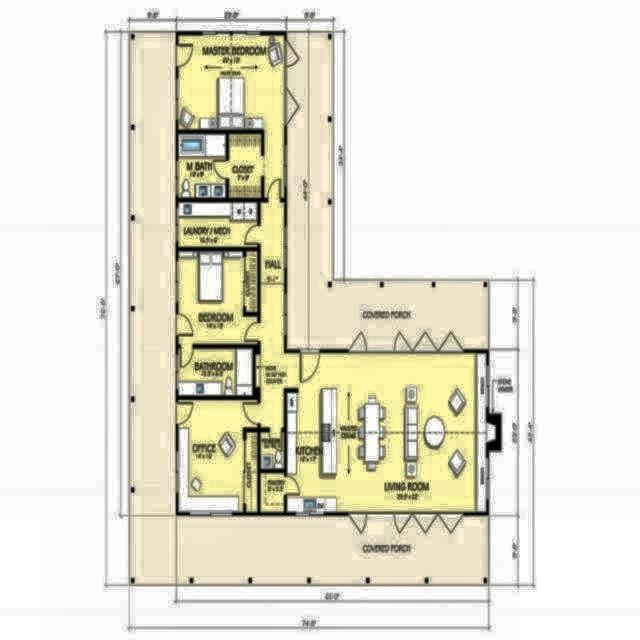room: (284, 353, 486, 513), (177, 34, 285, 199), (178, 401, 258, 512), (178, 251, 258, 345), (259, 202, 285, 428), (178, 202, 258, 247), (178, 348, 253, 396), (178, 135, 226, 197), (229, 134, 261, 198), (260, 432, 284, 470), (261, 473, 284, 512)
